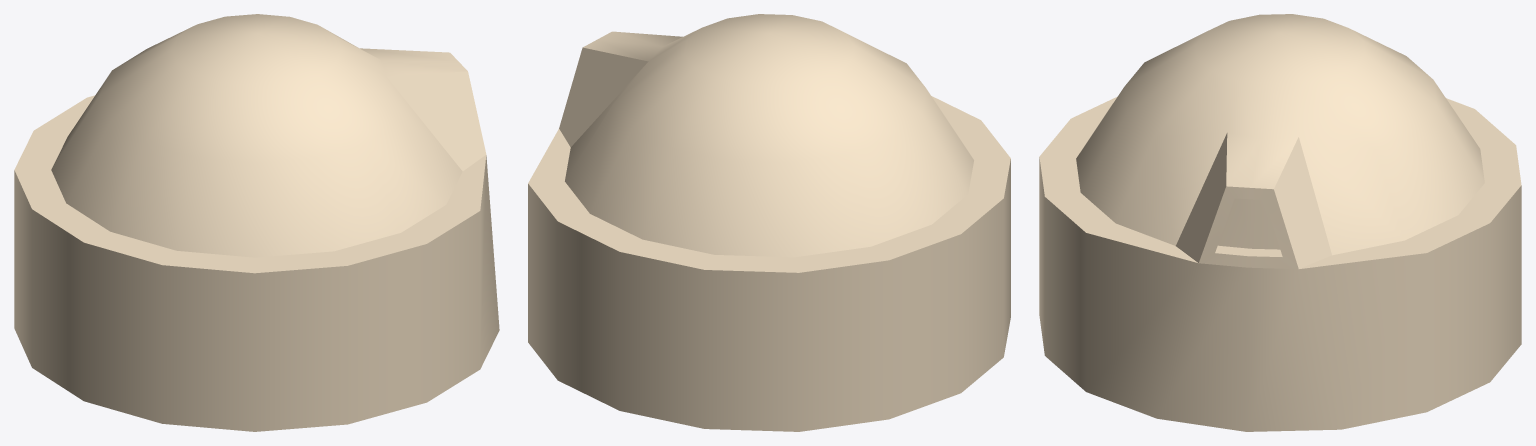
Rendered from house2.glb.
3 renders of one model, left to right at view 1: azimuth 30°, elevation 25°; view 2: azimuth 150°, elevation 25°; view 3: azimuth 270°, elevation 25°, orthographic.
Visible parts, largest first — view 1: House2; view 2: House2; view 3: House2.
Part boxes in pixels (bbox=[...]): House2: bbox=[14, 14, 499, 431]; House2: bbox=[528, 14, 1010, 431]; House2: bbox=[1039, 14, 1521, 431].
Size of the model in its own units: 29.37 by 19.95 by 29.37.
